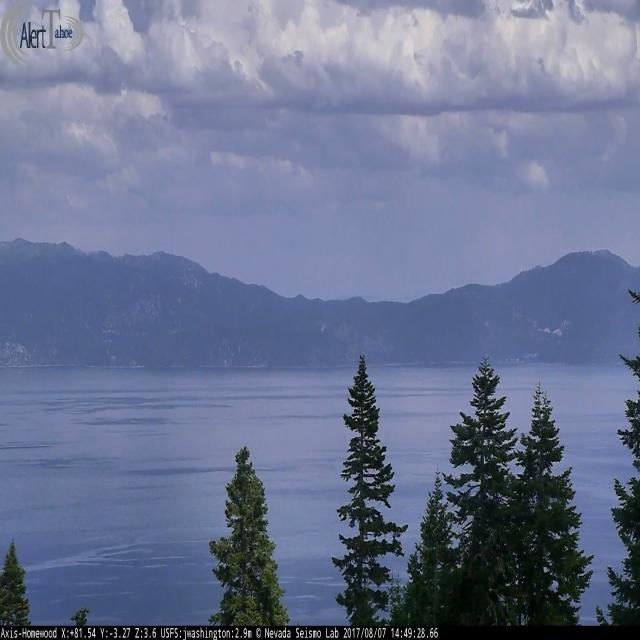smoke: (321, 324, 326, 331)
